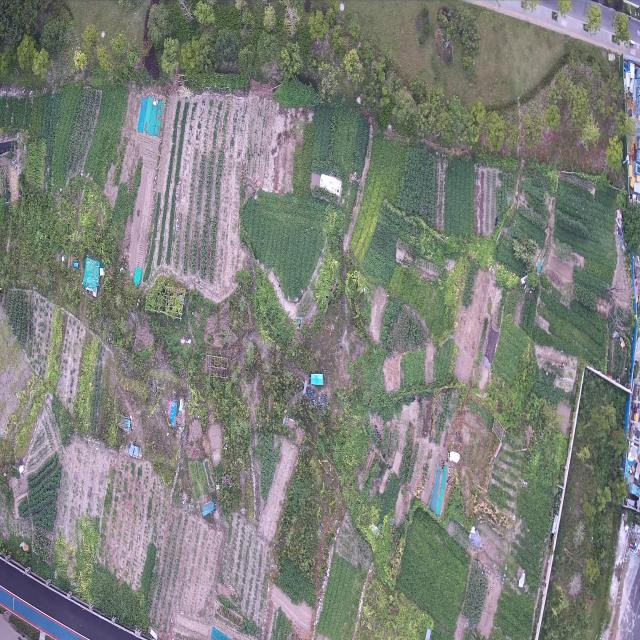UAV: (298, 376, 312, 398)
